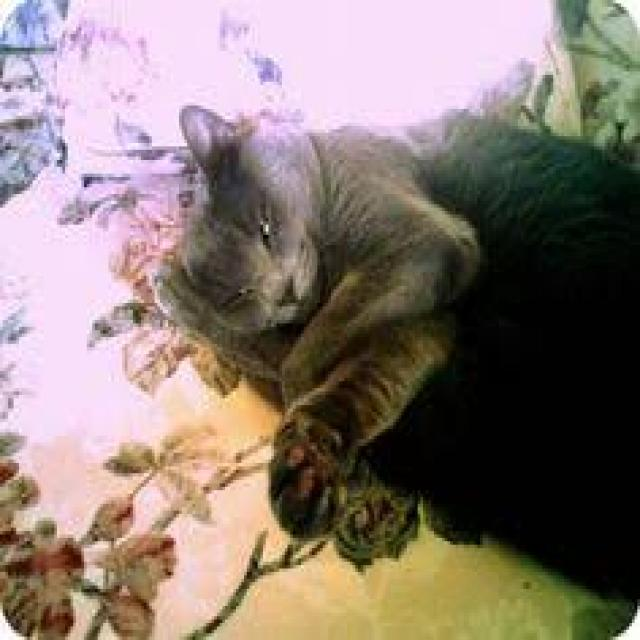Cat: (151, 96, 640, 603)
